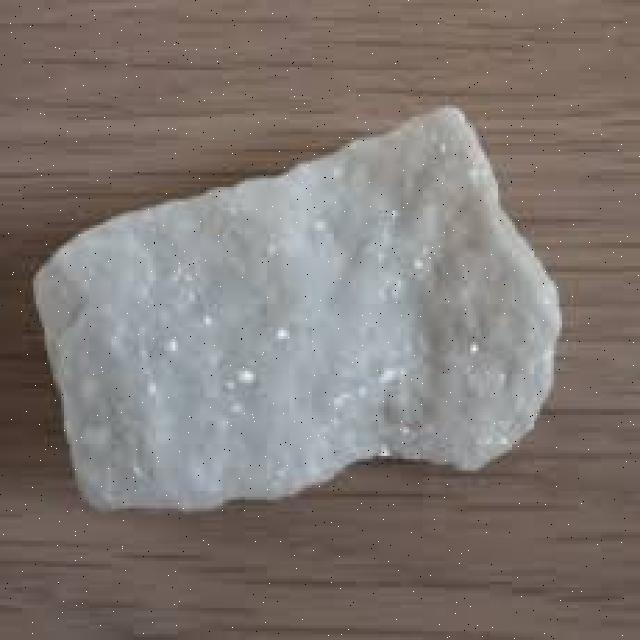Metamorphic: (36, 108, 576, 506)
